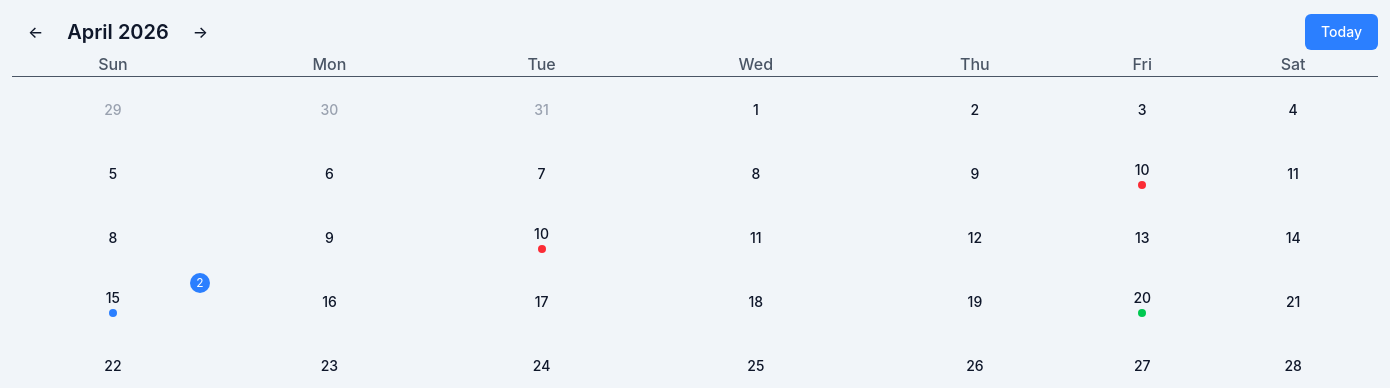
Test: Calendar › schedule indicators › shows tooltip with schedule count on hover
The image size is (1390, 388).
Hover over the cell "15" at (113, 300), box top-left (12, 268), bottom-right (214, 332)
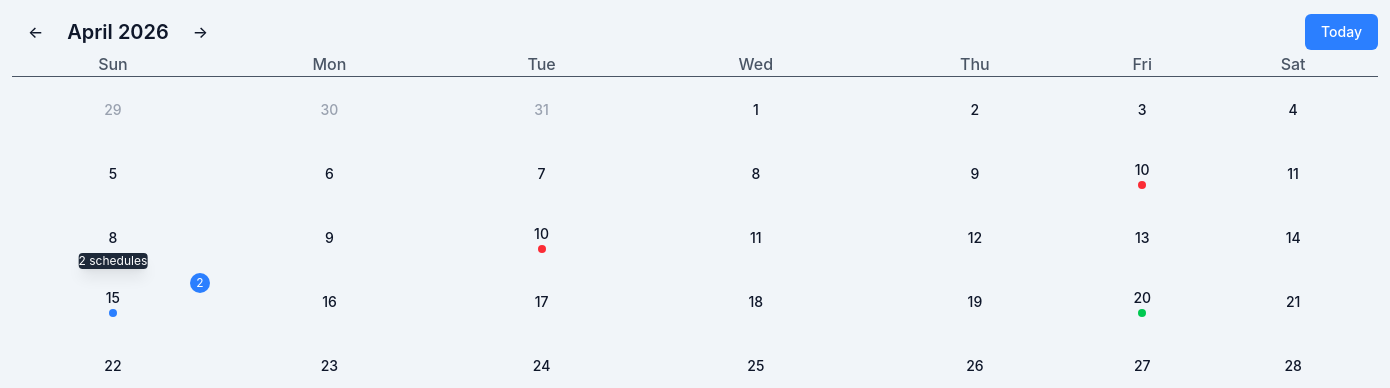
Now the tooltip reads "2 schedules", box top-left (79, 252), bottom-right (147, 268)
